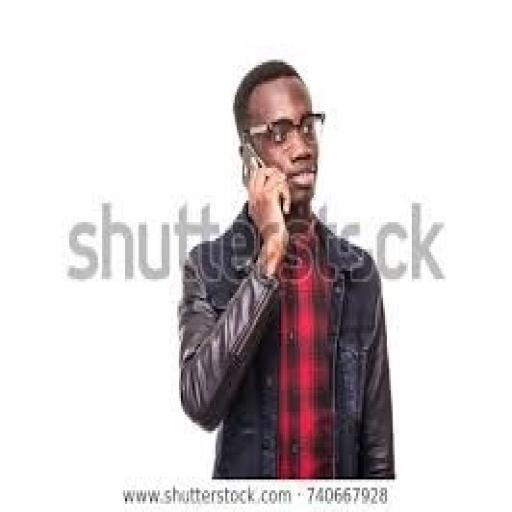calling: (175, 57, 397, 479)
